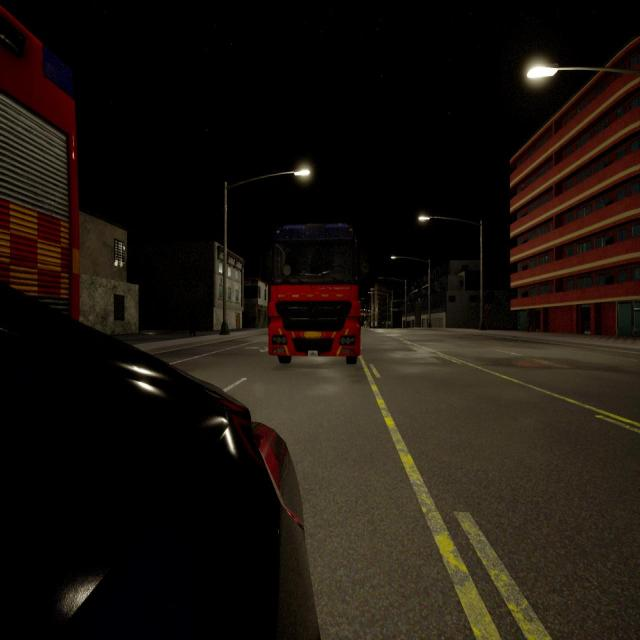Vehicle: (0, 290, 312, 640), (0, 2, 77, 320), (269, 224, 360, 363)
